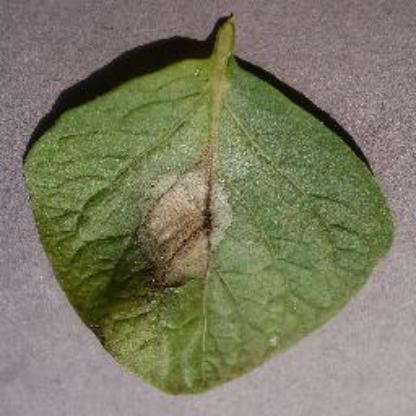Late-Blight: (16, 13, 398, 400)
